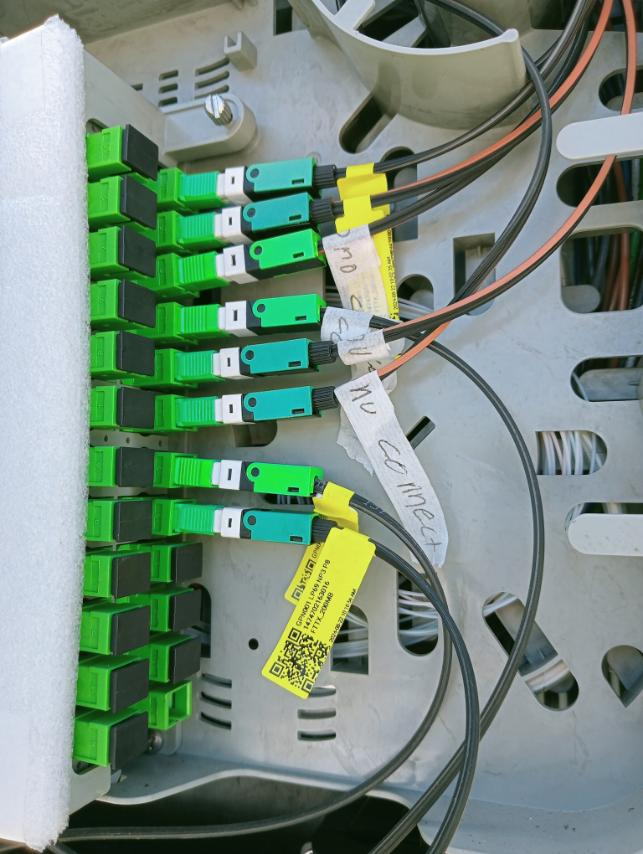no dust cap: (166, 683, 192, 730)
occupied: (179, 184, 342, 256), (182, 226, 339, 300), (181, 154, 341, 211), (176, 334, 344, 386), (176, 383, 346, 433), (180, 289, 332, 343), (174, 500, 337, 550), (174, 453, 327, 502)
vacant: (112, 660, 149, 716), (114, 713, 149, 772), (125, 122, 159, 182), (123, 224, 156, 278), (125, 176, 158, 229), (121, 331, 158, 378), (116, 607, 151, 655), (123, 281, 157, 329), (117, 553, 151, 598), (121, 387, 156, 430), (121, 446, 156, 488), (119, 502, 154, 542), (171, 637, 201, 683), (177, 542, 204, 585), (175, 589, 202, 632)
